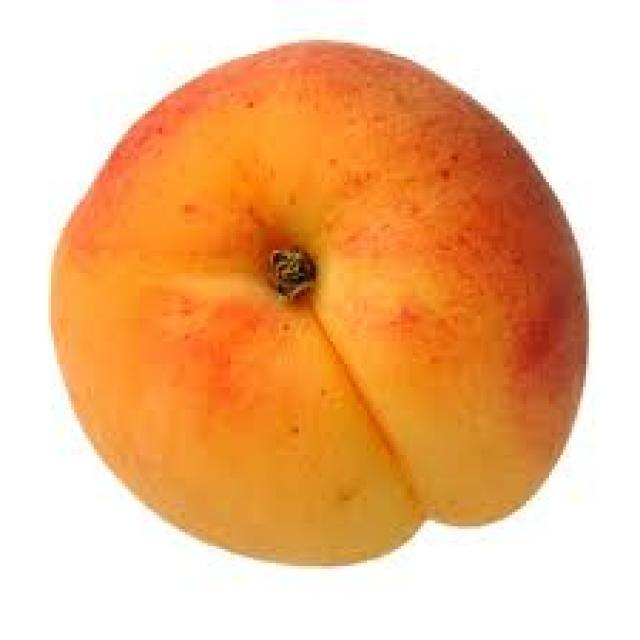Apricot: (32, 6, 606, 586)
